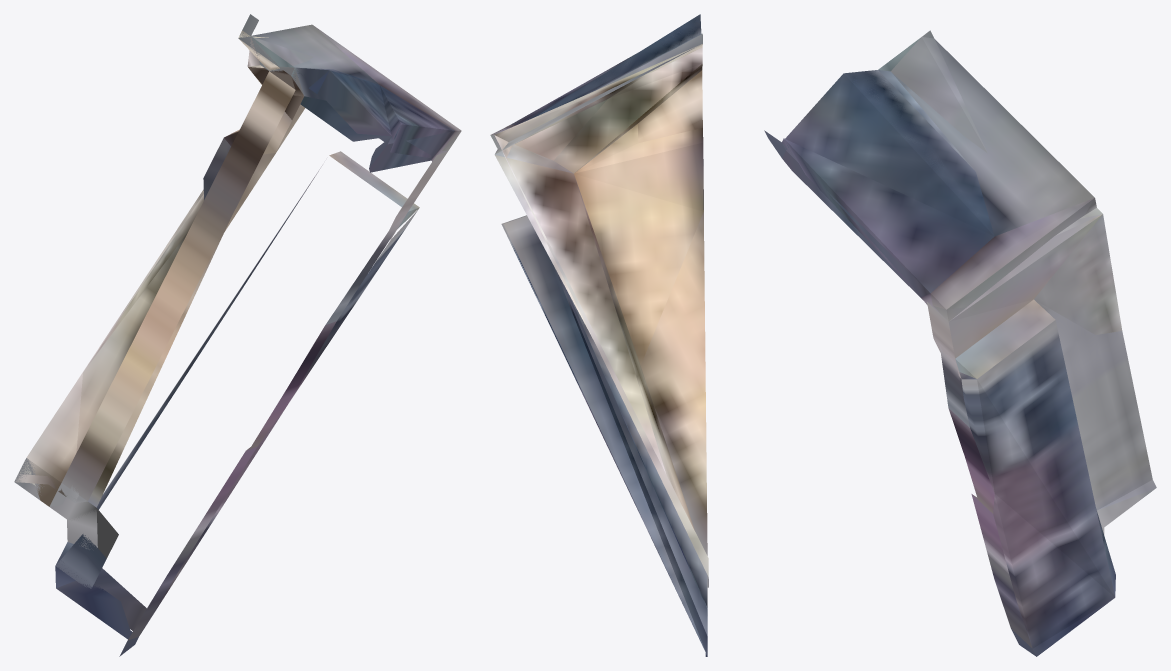
The picture shows the model from 3 angles, left to right: view 1: azimuth 30°, elevation 25°; view 2: azimuth 150°, elevation 25°; view 3: azimuth 270°, elevation 25°; orthographic projection. The views are drawn at different scales.
Bounding box in the file's own units: 11.15 × 20.29 × 10.74.
Materials: 1 (1 with a texture image).
